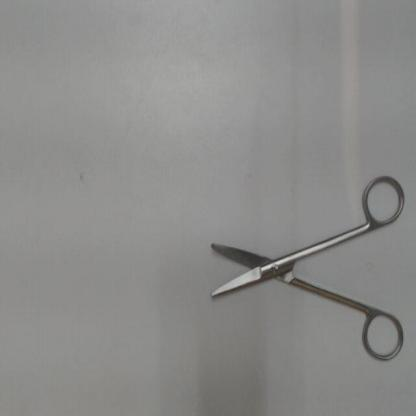Curved Mayo Scissors: (206, 167, 412, 370)
